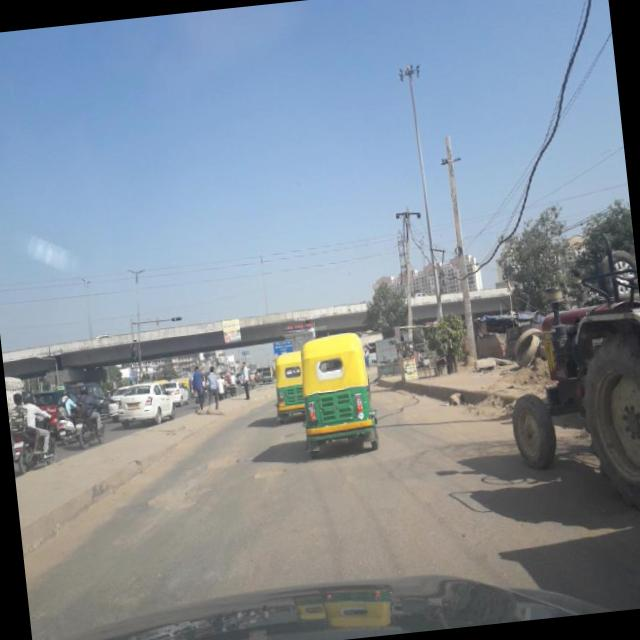pothole: (138, 473, 224, 522), (248, 456, 293, 486), (198, 442, 242, 472)
